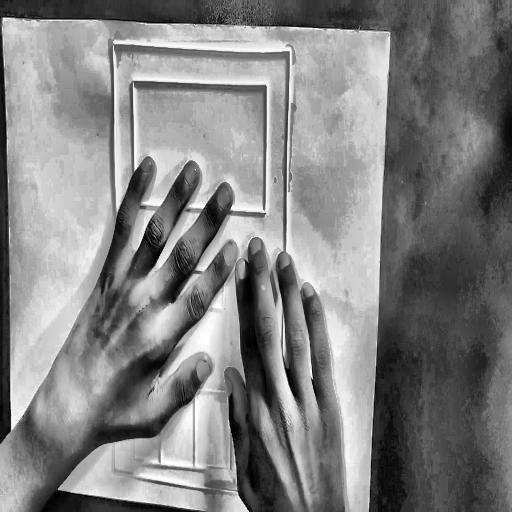bottom_left: (13, 469, 22, 484)
door: (106, 36, 295, 508)
top_left: (0, 11, 7, 25)
top_right: (385, 22, 396, 42)
